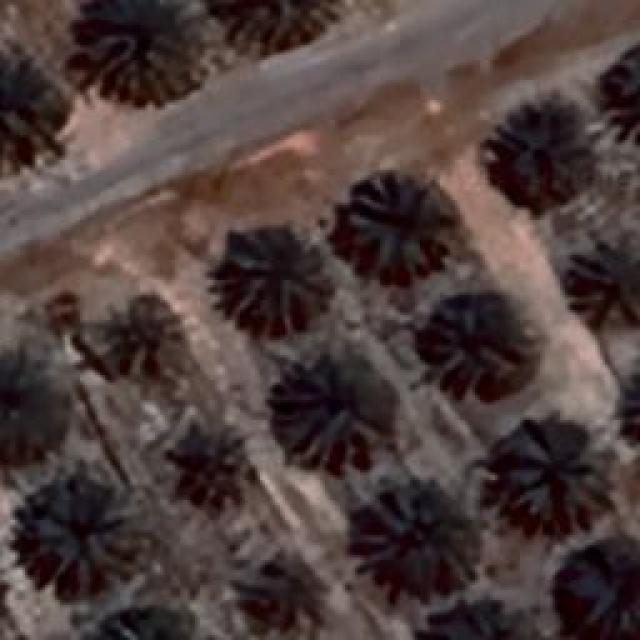PalmTree: (270, 354, 392, 468), (80, 0, 205, 102), (340, 170, 450, 282), (215, 230, 328, 335), (357, 486, 465, 592), (502, 422, 608, 528), (30, 490, 135, 588), (492, 105, 582, 213), (0, 36, 70, 162), (424, 300, 522, 385), (557, 538, 640, 636), (0, 342, 72, 452), (231, 552, 319, 636), (95, 294, 183, 372), (407, 595, 542, 640), (227, 0, 325, 60), (572, 238, 640, 324), (174, 428, 246, 502), (592, 41, 640, 150), (86, 604, 204, 640), (610, 352, 640, 458)
